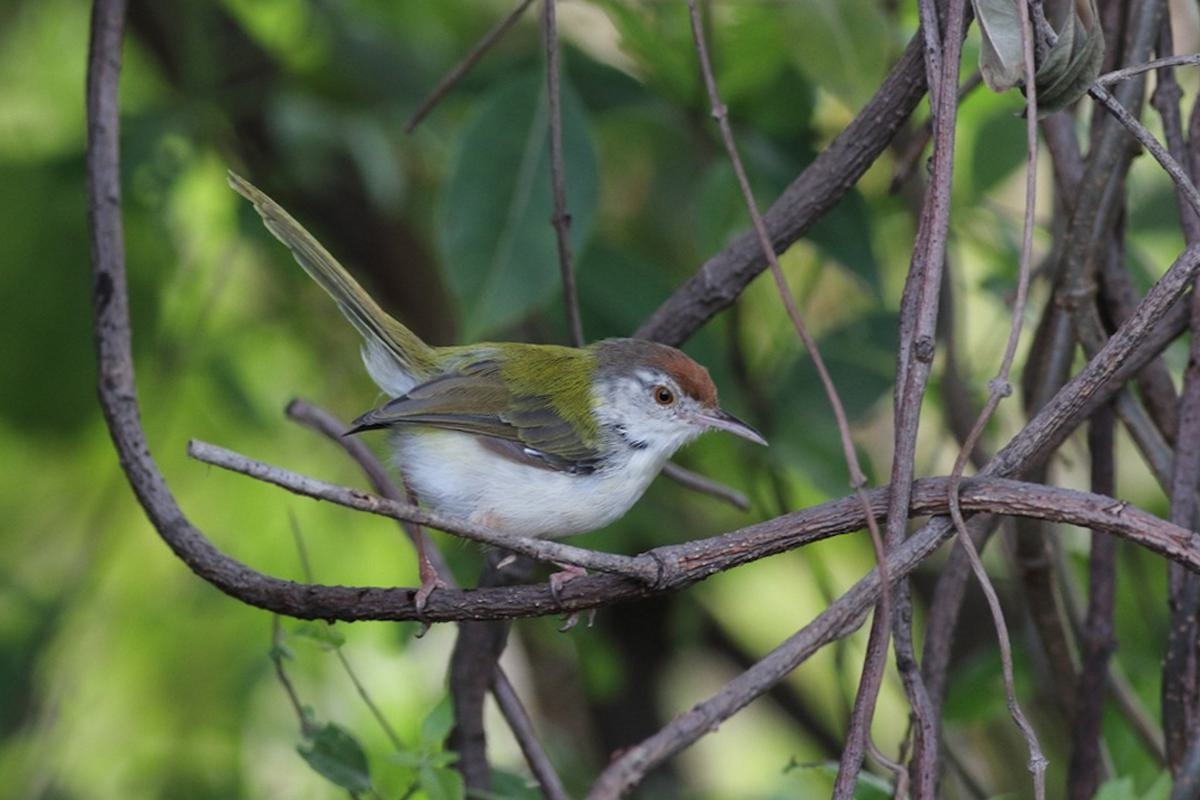tailorbird: (298, 215, 776, 588)
